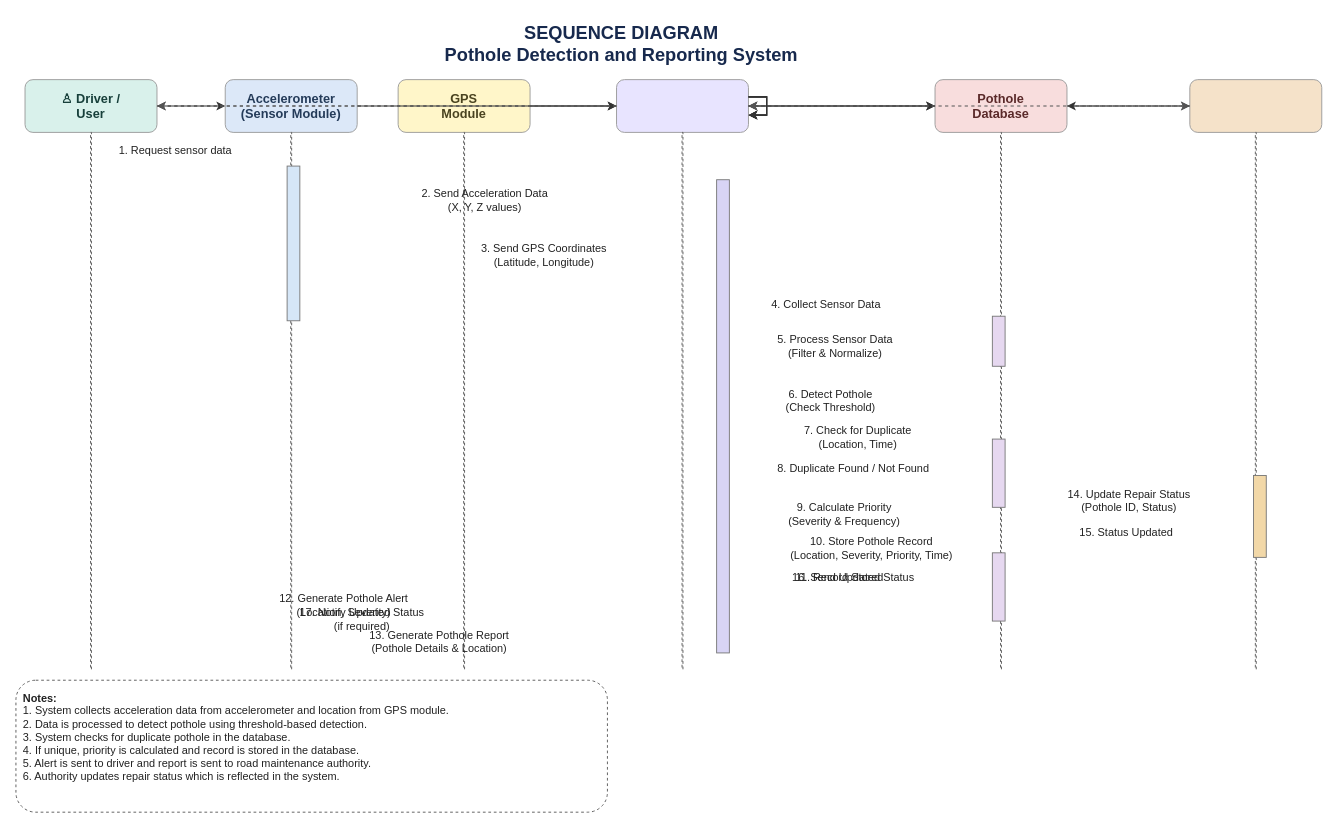
Some shapes in this 1338 by 828 pixel diagram are drawn without their labels. Here are the shapes that lost their labels. From the top down, the centre of each, then its label:
[682,105]: Pothole Detection System
[1255,105]: Road Maintenance Authority
